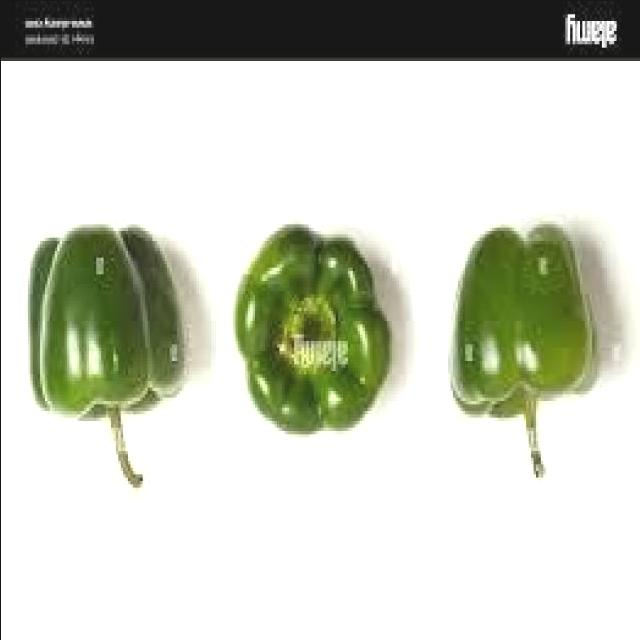bell_pepper: (10, 189, 188, 509), (436, 194, 620, 494), (226, 204, 390, 452)
